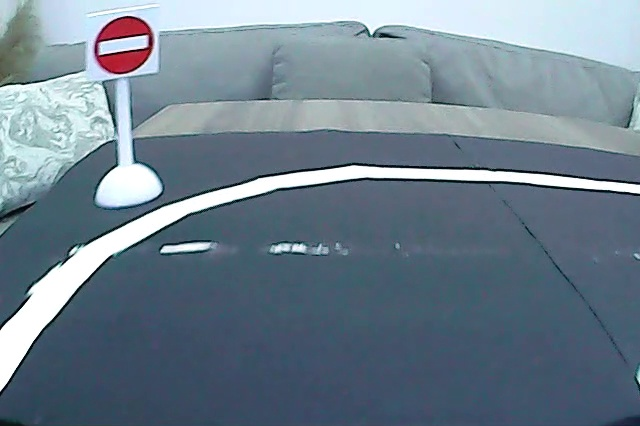do not enter: (91, 12, 157, 77)
